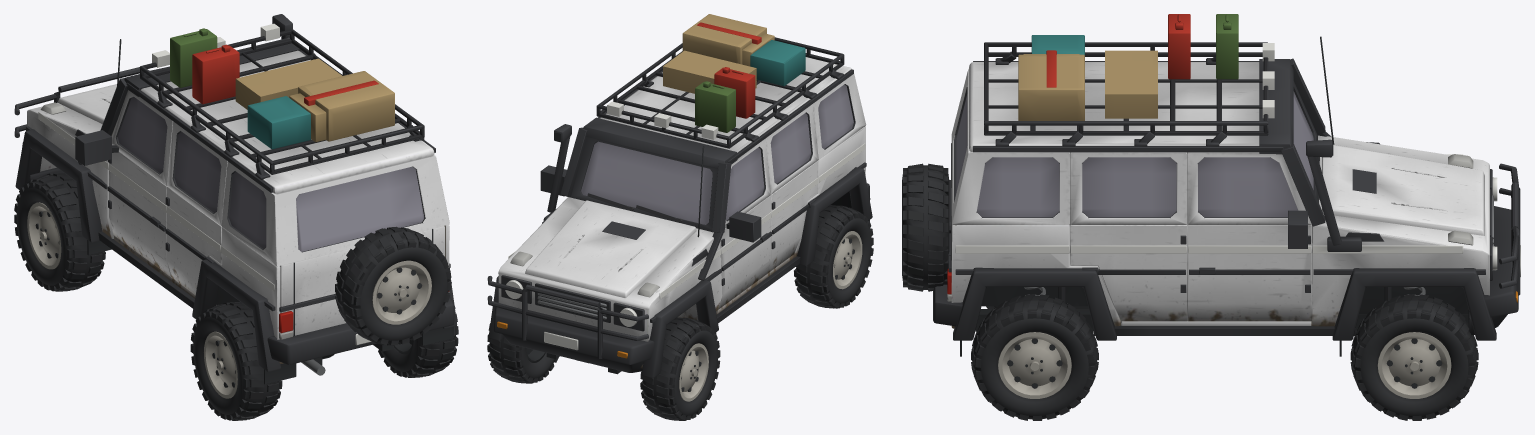
Rendered from offroader.glb.
3 renders of one model, left to right at view 1: azimuth 30°, elevation 25°; view 2: azimuth 150°, elevation 25°; view 3: azimuth 270°, elevation 25°, orthographic. The views are drawn at different scales.
Parts seen in each view (by area): view 1: body, door_FL, door_RL, wheel_FL, wheel_RL, wheel_RR; view 2: body, door_FL, door_RL, wheel_FL, wheel_RL, wheel_FR, door_FR; view 3: body, door_FR, door_RR, wheel_RR, wheel_FR.
Boxes of the visible parts, box(x1,y1,x2,y2) form: body: box(14, 14, 457, 384); door_FL: box(75, 90, 173, 276); door_RL: box(165, 121, 227, 294); wheel_FL: box(14, 172, 105, 291); wheel_RL: box(190, 302, 282, 420); wheel_RR: box(378, 306, 458, 377); body: box(487, 14, 872, 378); door_FL: box(718, 138, 772, 309); door_RL: box(765, 104, 818, 273); wheel_FL: box(640, 317, 720, 420); wheel_RL: box(794, 205, 873, 308); wheel_FR: box(487, 323, 558, 383); door_FR: box(540, 165, 566, 196); body: box(902, 14, 1520, 356); door_FR: box(1187, 152, 1311, 321); door_RR: box(1070, 152, 1187, 321); wheel_RR: box(971, 294, 1098, 420); wheel_FR: box(1350, 294, 1478, 420).
Bounding box in the file's own units: 2.28 × 2.73 × 4.64.
20 materials, 1 textured.
